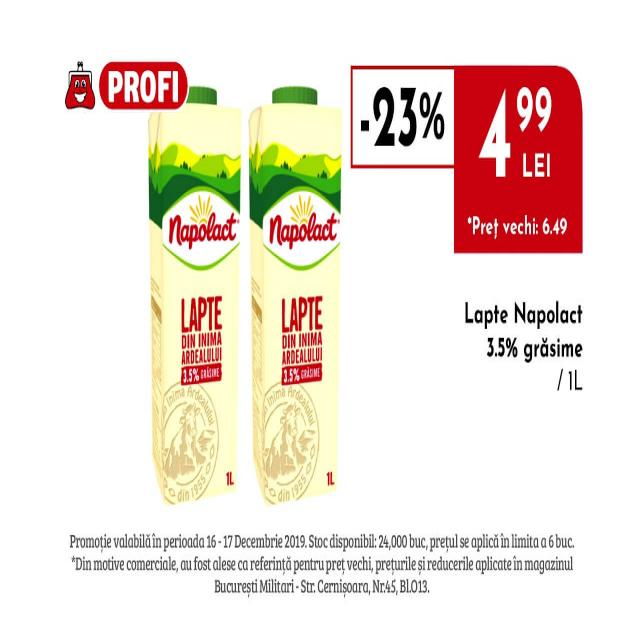milk: (249, 86, 342, 508), (147, 86, 238, 505)
